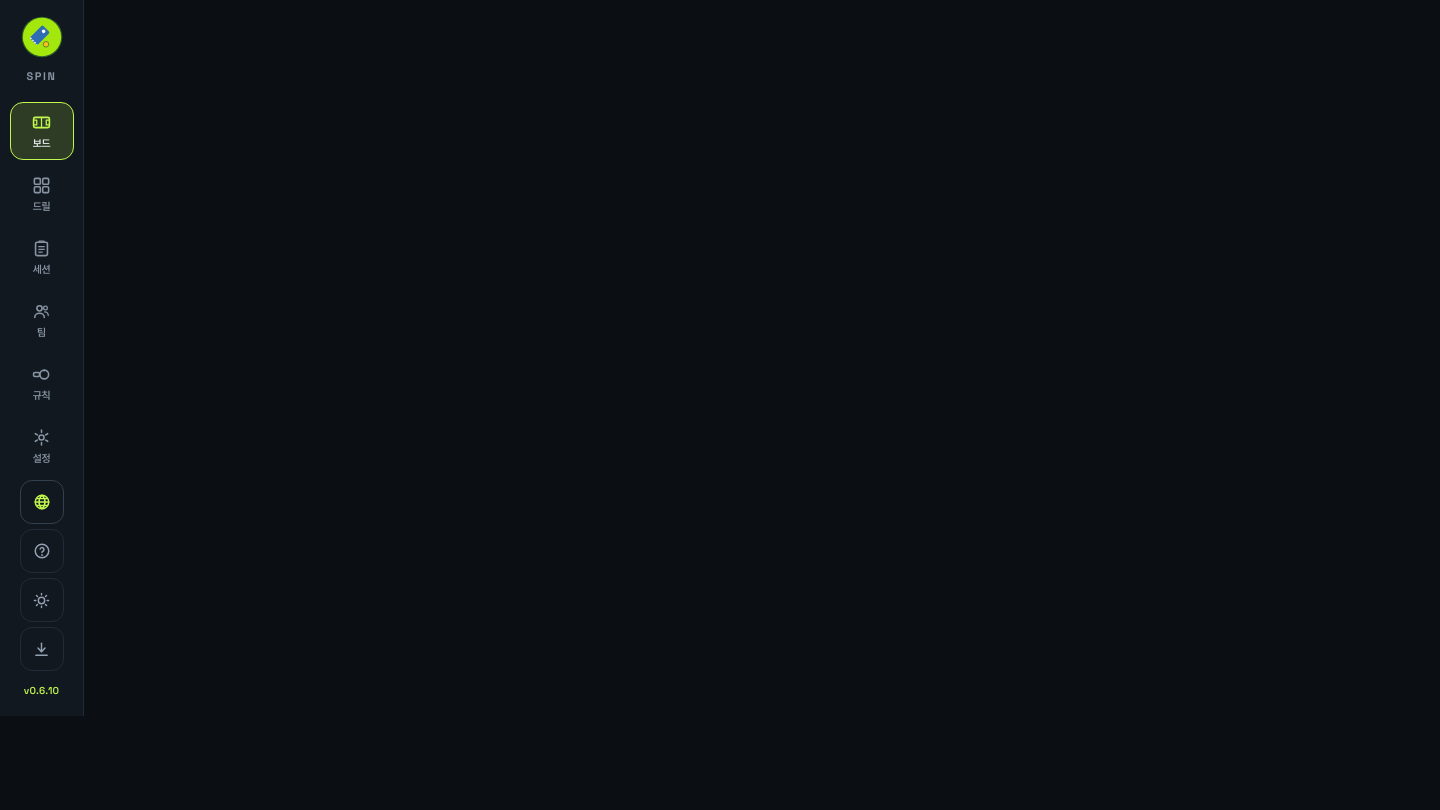
언어 고르기 — 레일의 지구본 › English 를 고르면 레일 글자가 곧바로 영어가 된다
Click the button named "언어": [42, 502] box [20,480,64,524]
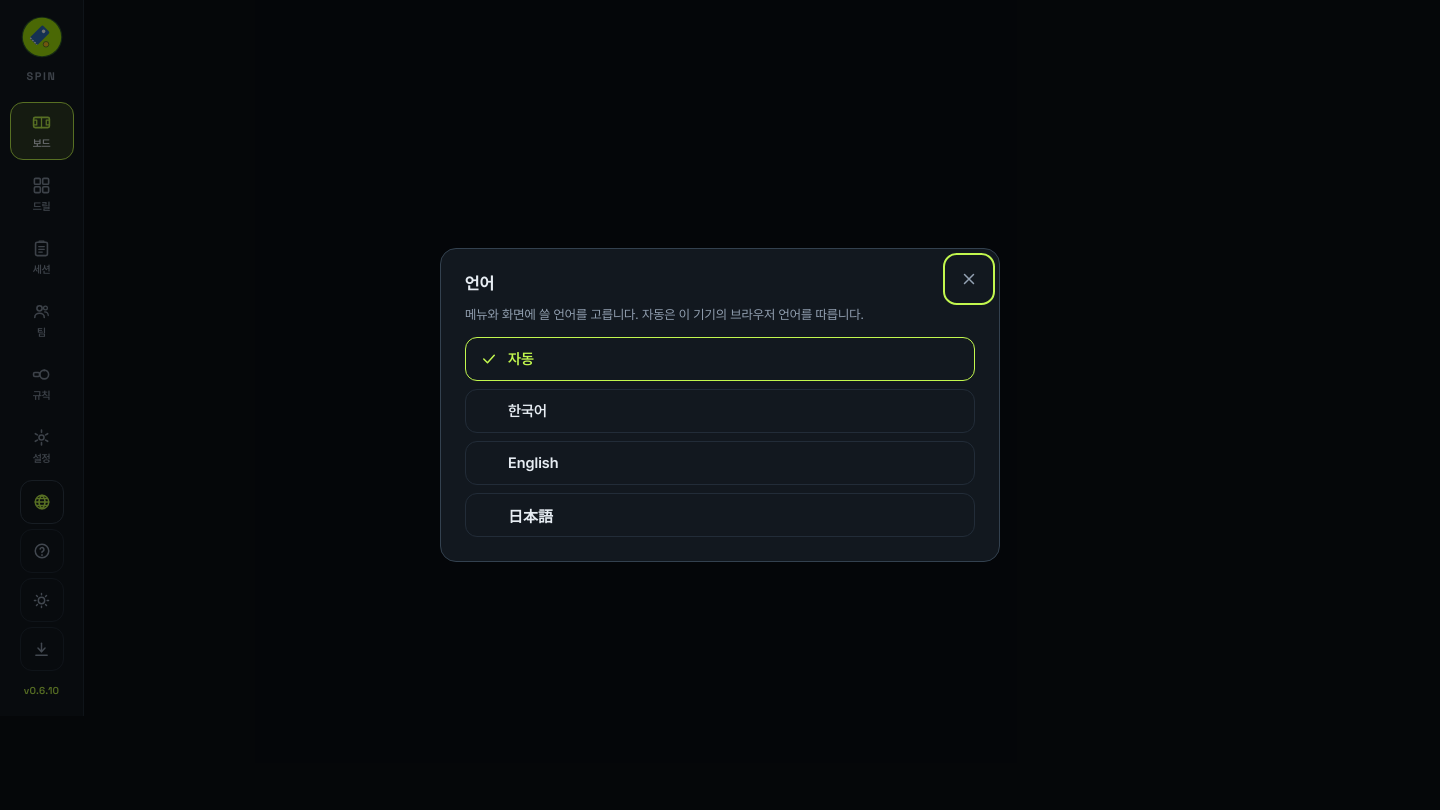
Click the button "English": [533, 463] box [465,441,975,485]
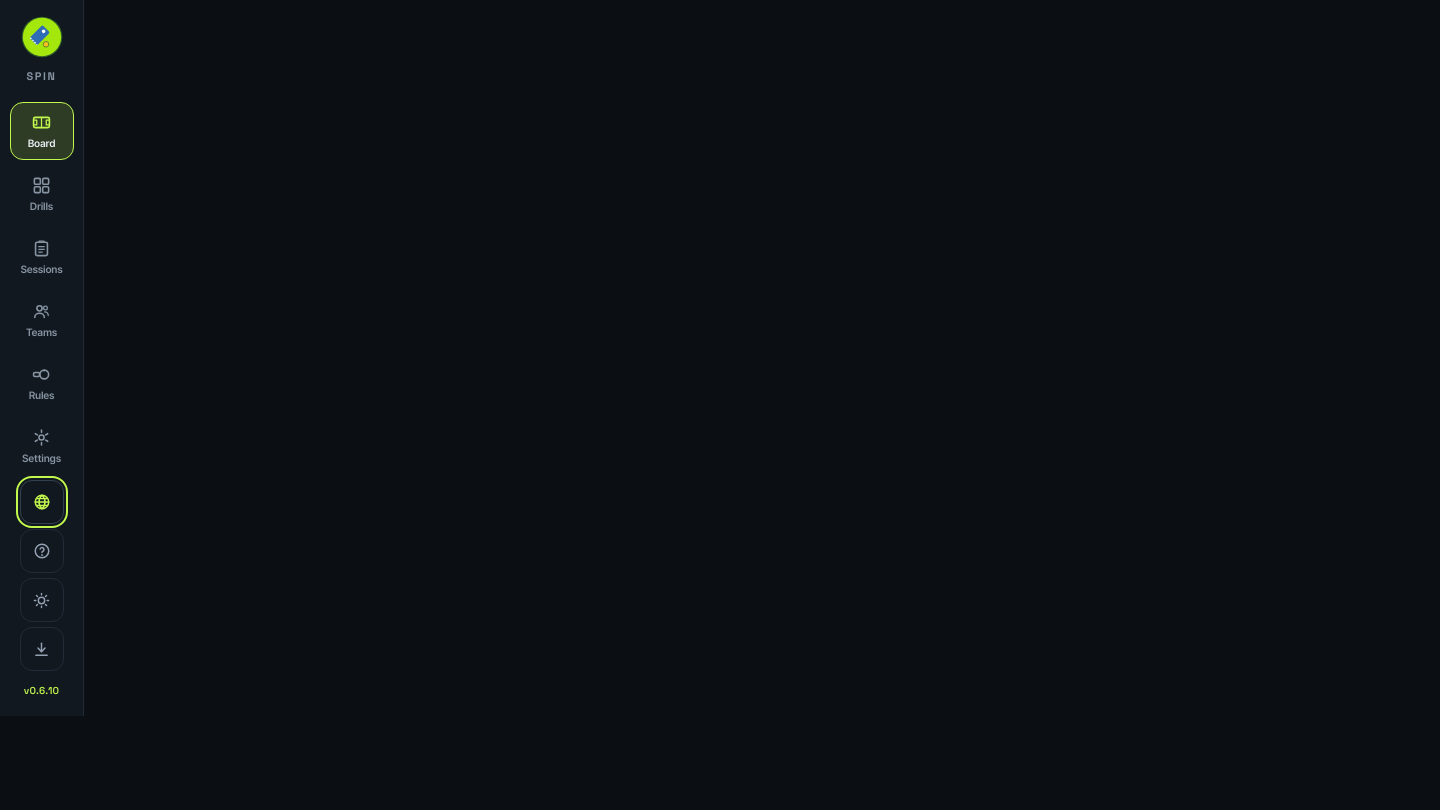
Result: the button named "Language" is shown at [20,480,64,524]
